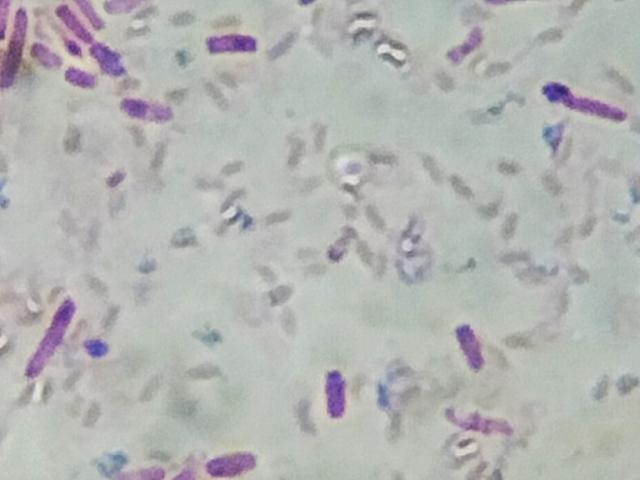E. coli: (22, 290, 82, 377), (552, 85, 624, 126), (446, 399, 519, 439), (3, 7, 32, 94), (453, 317, 492, 375), (118, 89, 168, 129), (206, 444, 258, 480), (321, 363, 349, 419), (205, 32, 256, 62), (72, 0, 116, 32), (92, 39, 121, 79), (56, 6, 79, 50), (32, 33, 56, 73), (68, 63, 90, 88)
